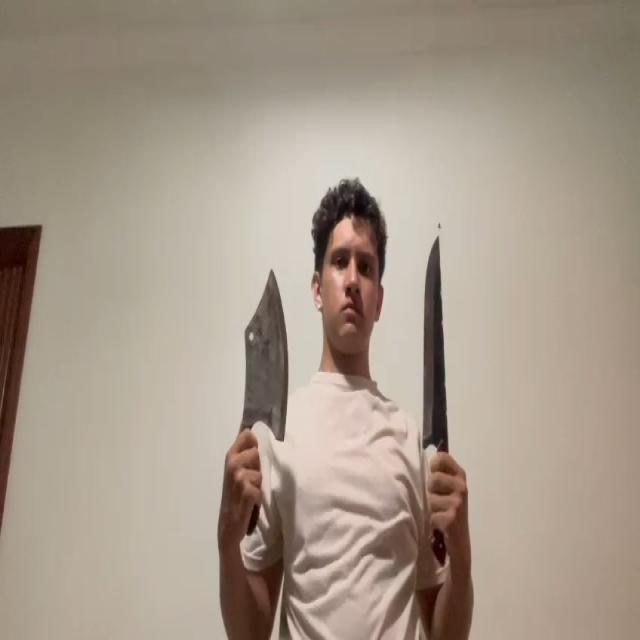knife: (244, 265, 292, 444), (422, 234, 452, 446)
